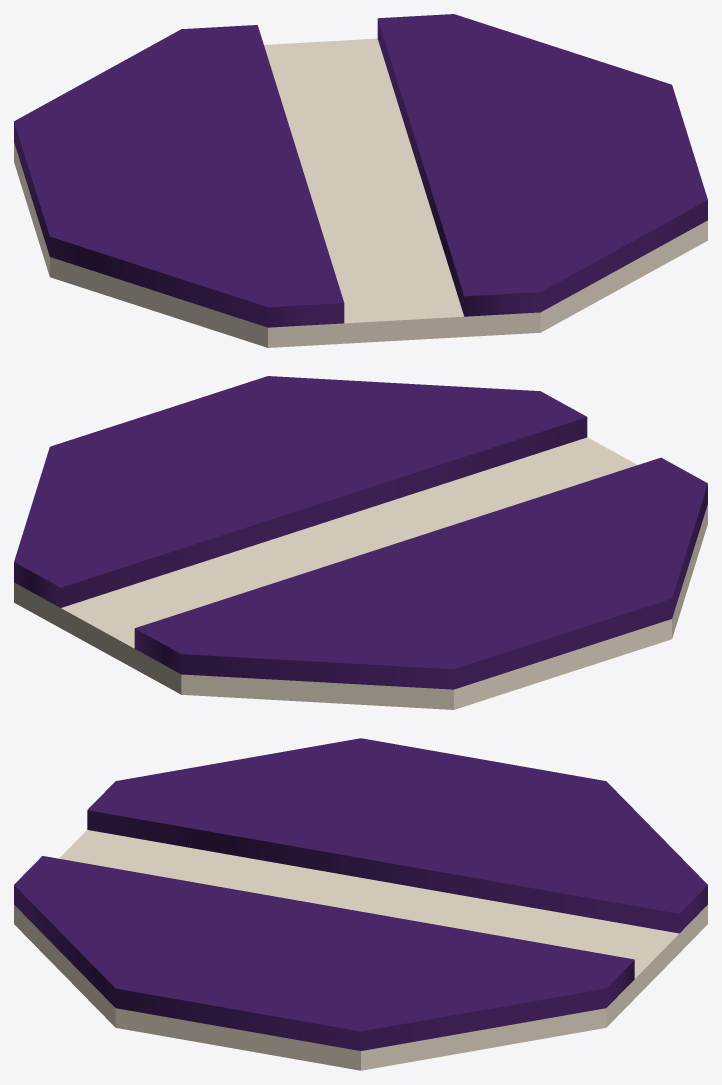
Rendered from Tile_002_Straight.FBX.
The picture shows the model from 3 angles, top to bottom: view 1: azimuth 30°, elevation 25°; view 2: azimuth 150°, elevation 25°; view 3: azimuth 270°, elevation 25°; orthographic projection. The views are drawn at different scales.
Visible parts, largest first — view 1: NGon071; view 2: NGon071; view 3: NGon071.
Boxes of the visible parts, left/top/right/bottom form: NGon071: left=14, top=14, right=707, bottom=347; NGon071: left=14, top=376, right=707, bottom=709; NGon071: left=14, top=738, right=707, bottom=1070.
Size of the model in its own units: 16 by 1 by 16.
